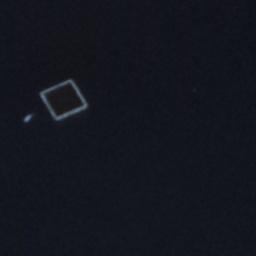square_solid: (36, 76, 94, 125)
